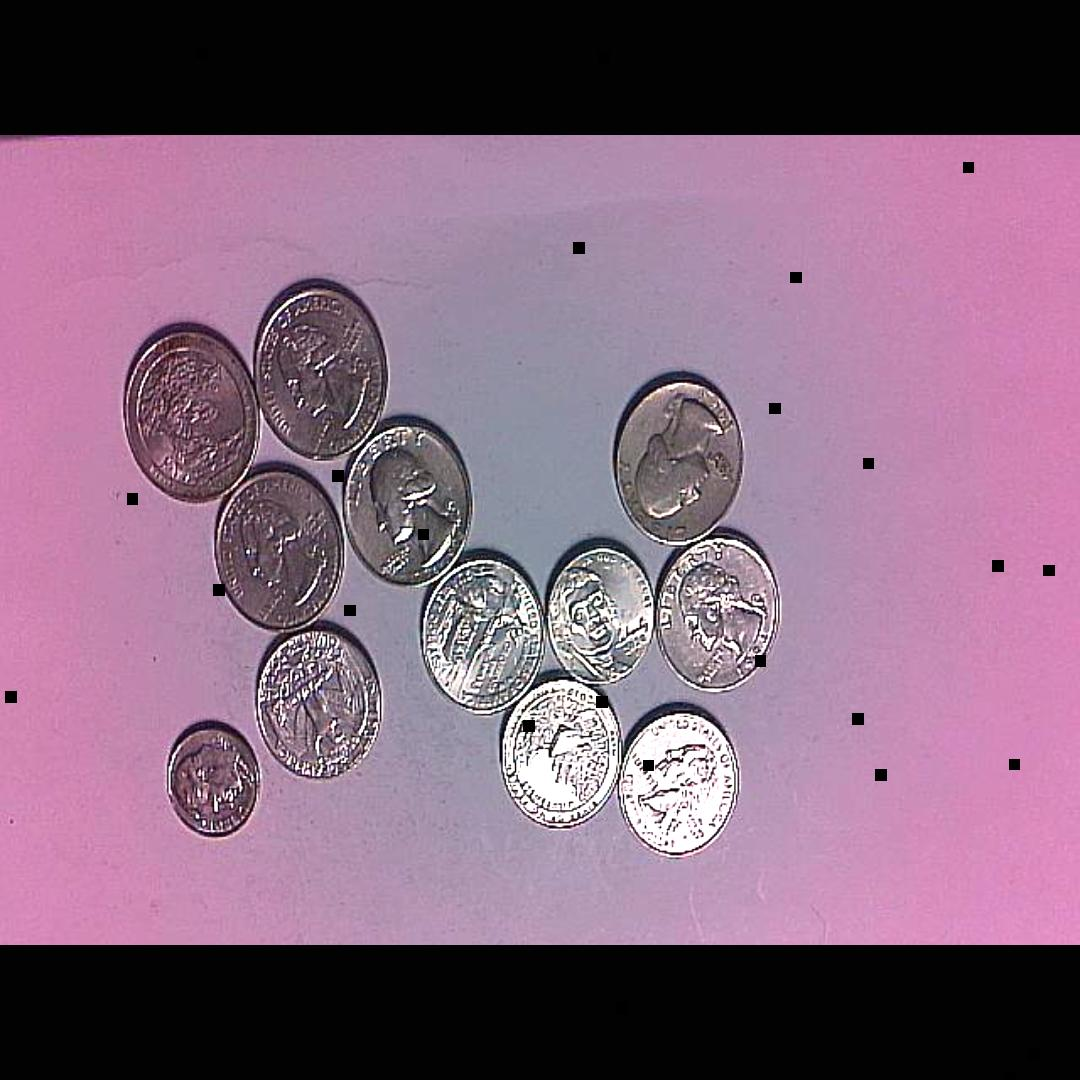Dime: (165, 719, 260, 842)
Nickel: (545, 542, 651, 690)
Quarter: (251, 275, 386, 466), (120, 321, 258, 503), (608, 370, 748, 548), (211, 462, 346, 633), (341, 415, 472, 587), (417, 548, 550, 714), (250, 621, 383, 785), (650, 532, 783, 694), (496, 675, 623, 834), (618, 705, 742, 861)
